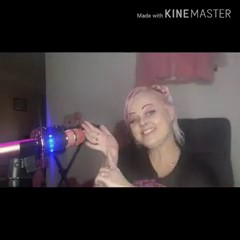T: (80, 119, 124, 186)
